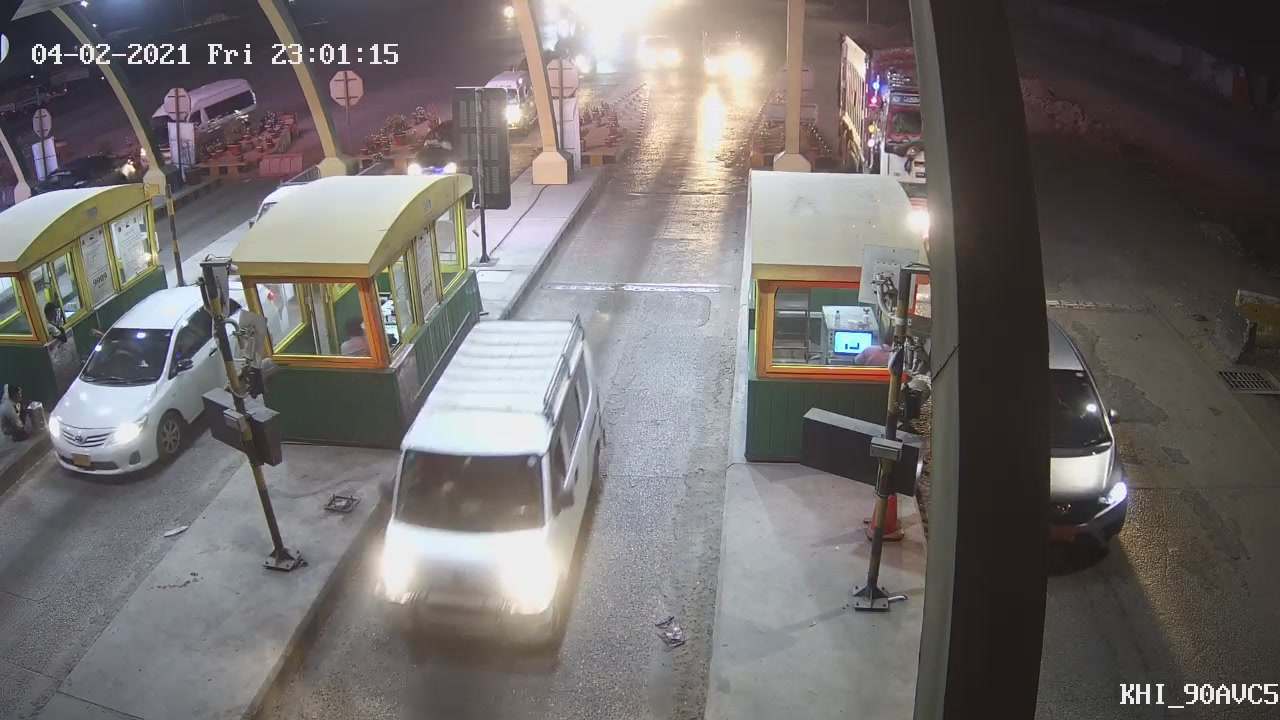F1: (370, 314, 604, 642)
